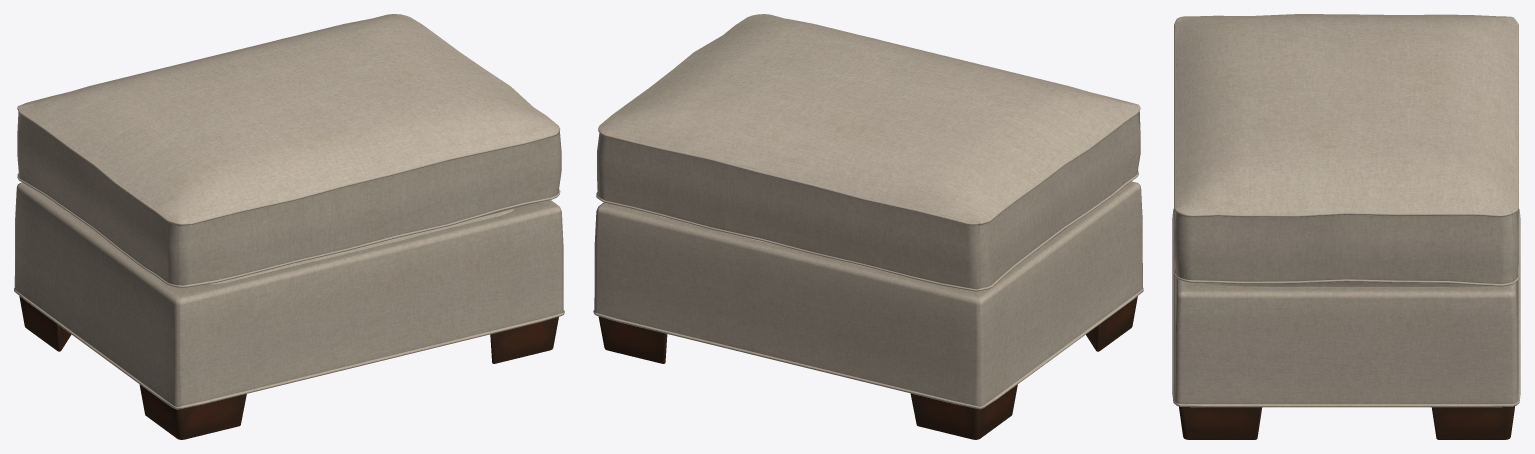
Rendered from sofa_B072JG3W4M.glb.
3 renders of one model, left to right at view 1: azimuth 30°, elevation 25°; view 2: azimuth 150°, elevation 25°; view 3: azimuth 270°, elevation 25°, orthographic. The views are drawn at different scales.
Parts seen in each view (by area): view 1: RootNode; view 2: RootNode; view 3: RootNode.
Part boxes in pixels (x1=…): RootNode: x1=14, y1=14, x2=564, y2=439; RootNode: x1=593, y1=14, x2=1143, y2=439; RootNode: x1=1172, y1=14, x2=1520, y2=439.
Size of the model in its own units: 0.846 by 0.5026 by 0.6172.
Materials: 1 (1 with a texture image).
